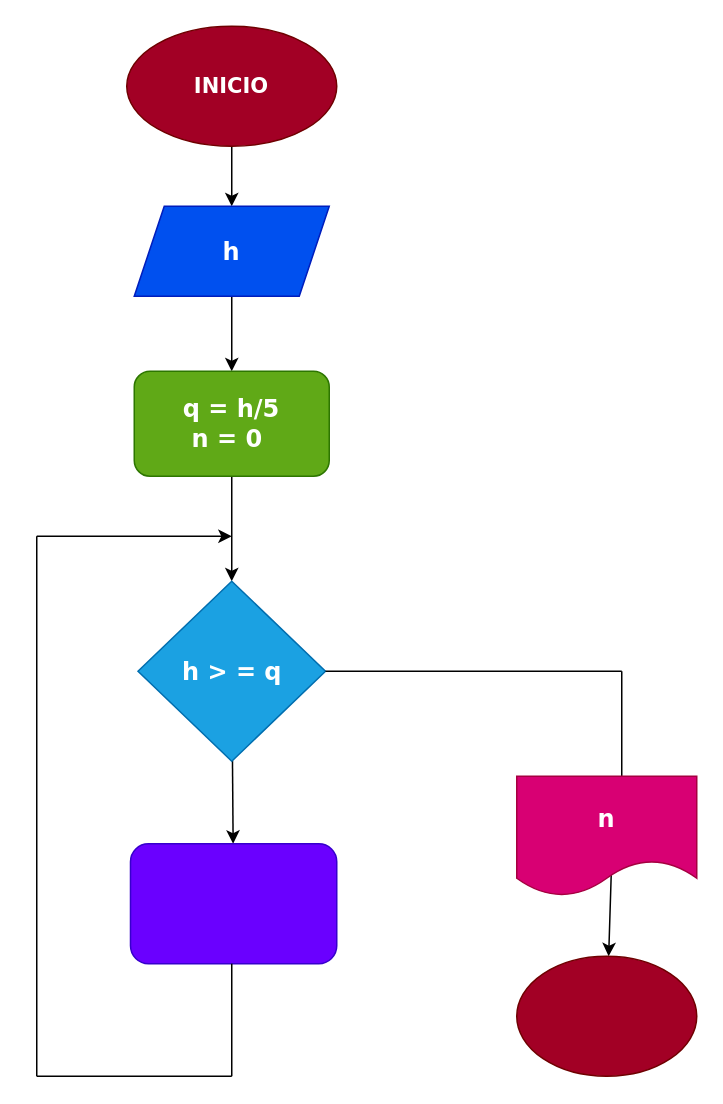
Image size: 723x1104. Some labels were removed from this diagram. Here are the shapes that lost their labels. From the top down, the centre of each, then its label:
(233,903): h = 0.9 n = n + 1
(606,1015): FIN
